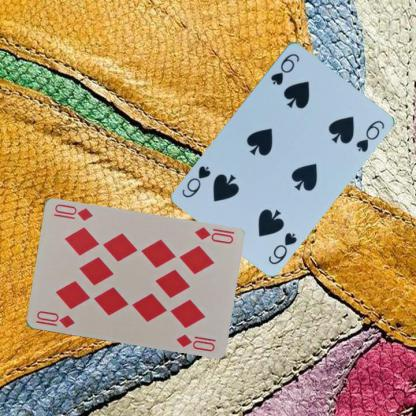10d: (32, 308, 76, 330), (192, 224, 234, 245)
6s: (268, 50, 301, 86), (266, 230, 298, 266)
